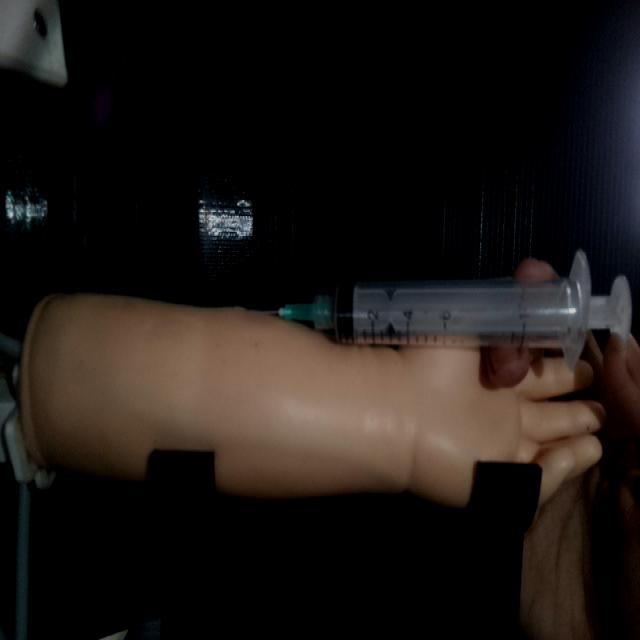Below 15 degrees: (265, 247, 633, 368)
